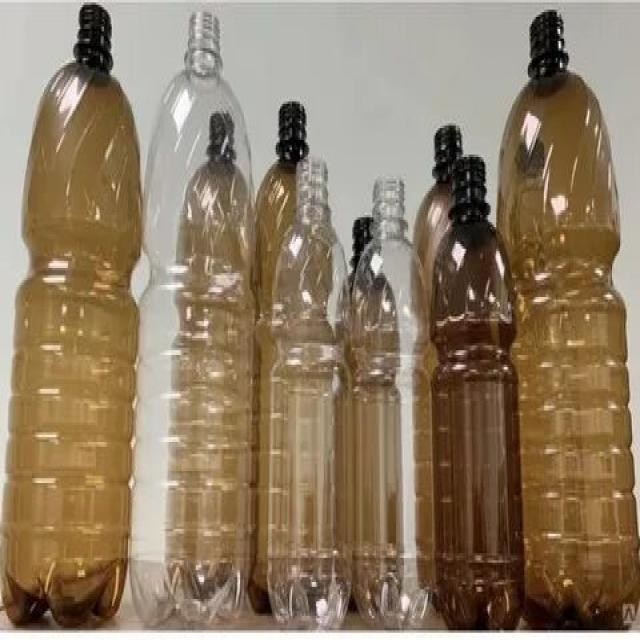brown: (497, 13, 639, 630), (4, 2, 142, 630), (430, 156, 524, 628)
